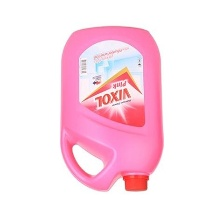cleaning_solution: (56, 21, 168, 195)
